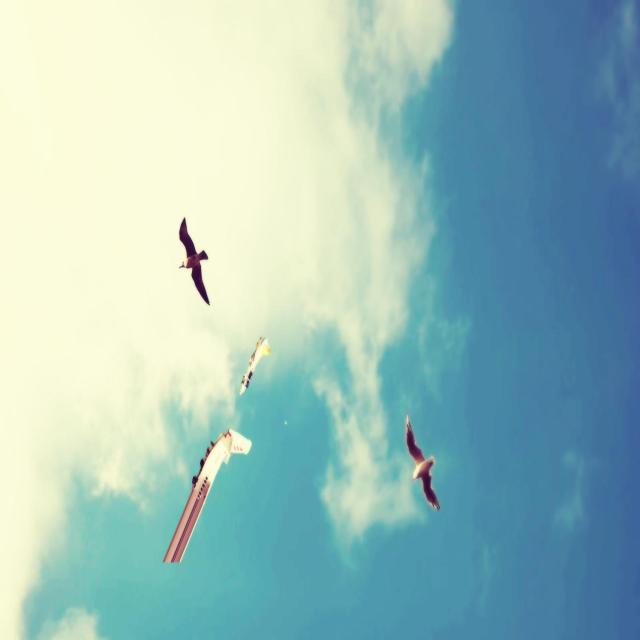airplane: (163, 427, 252, 564), (239, 336, 271, 396)
